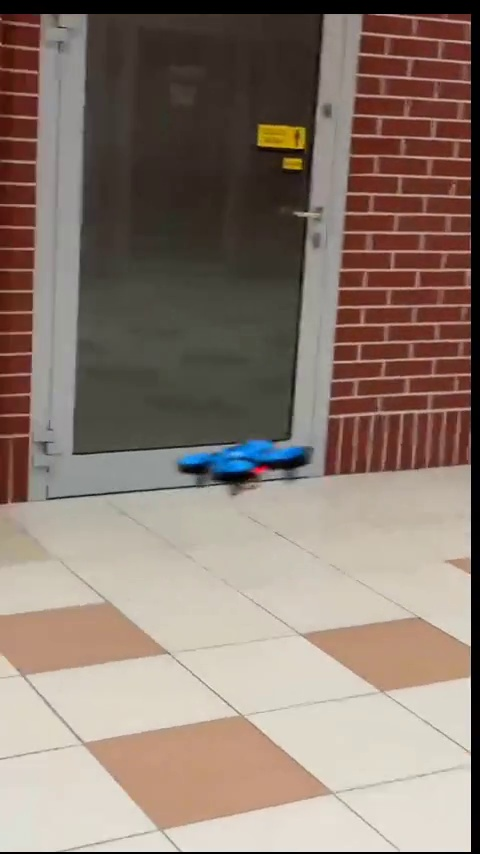drone: (181, 437, 314, 491)
